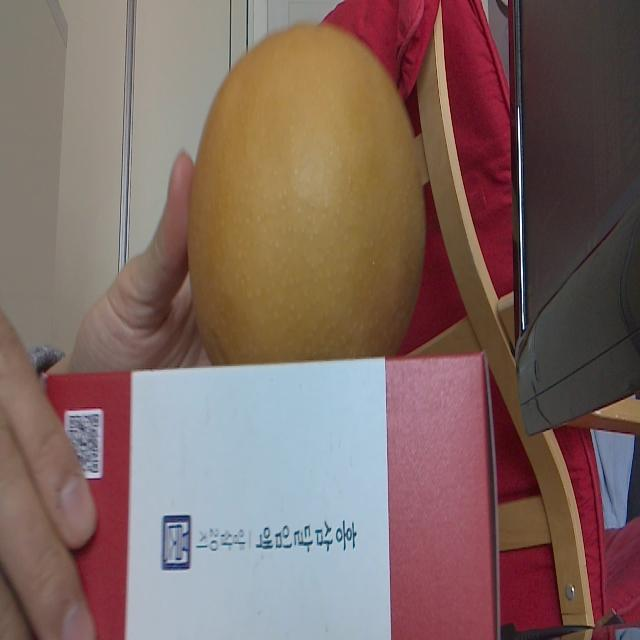pear: (188, 21, 423, 358)
